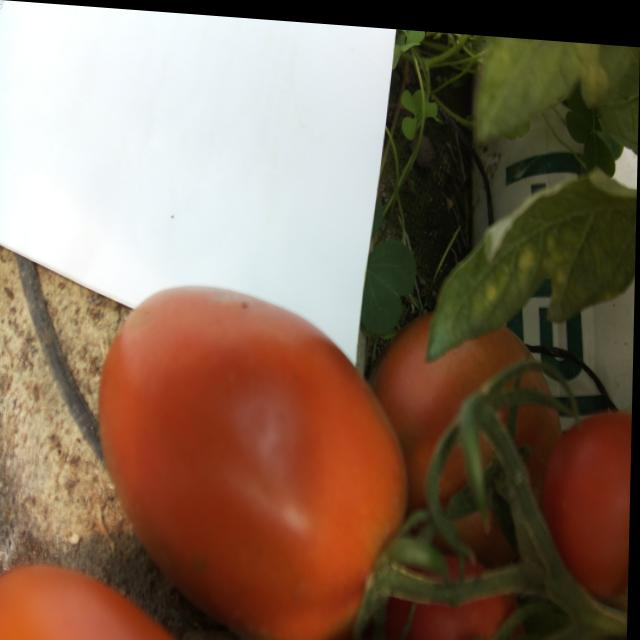kirmizi: (130, 284, 413, 627)
